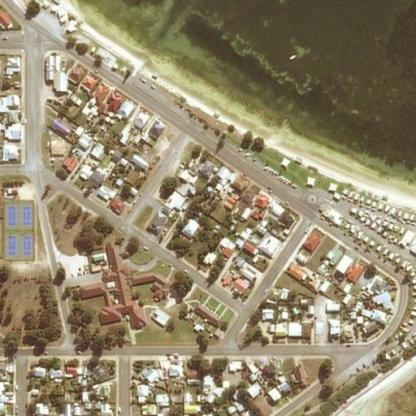ship: (284, 50, 298, 62)
